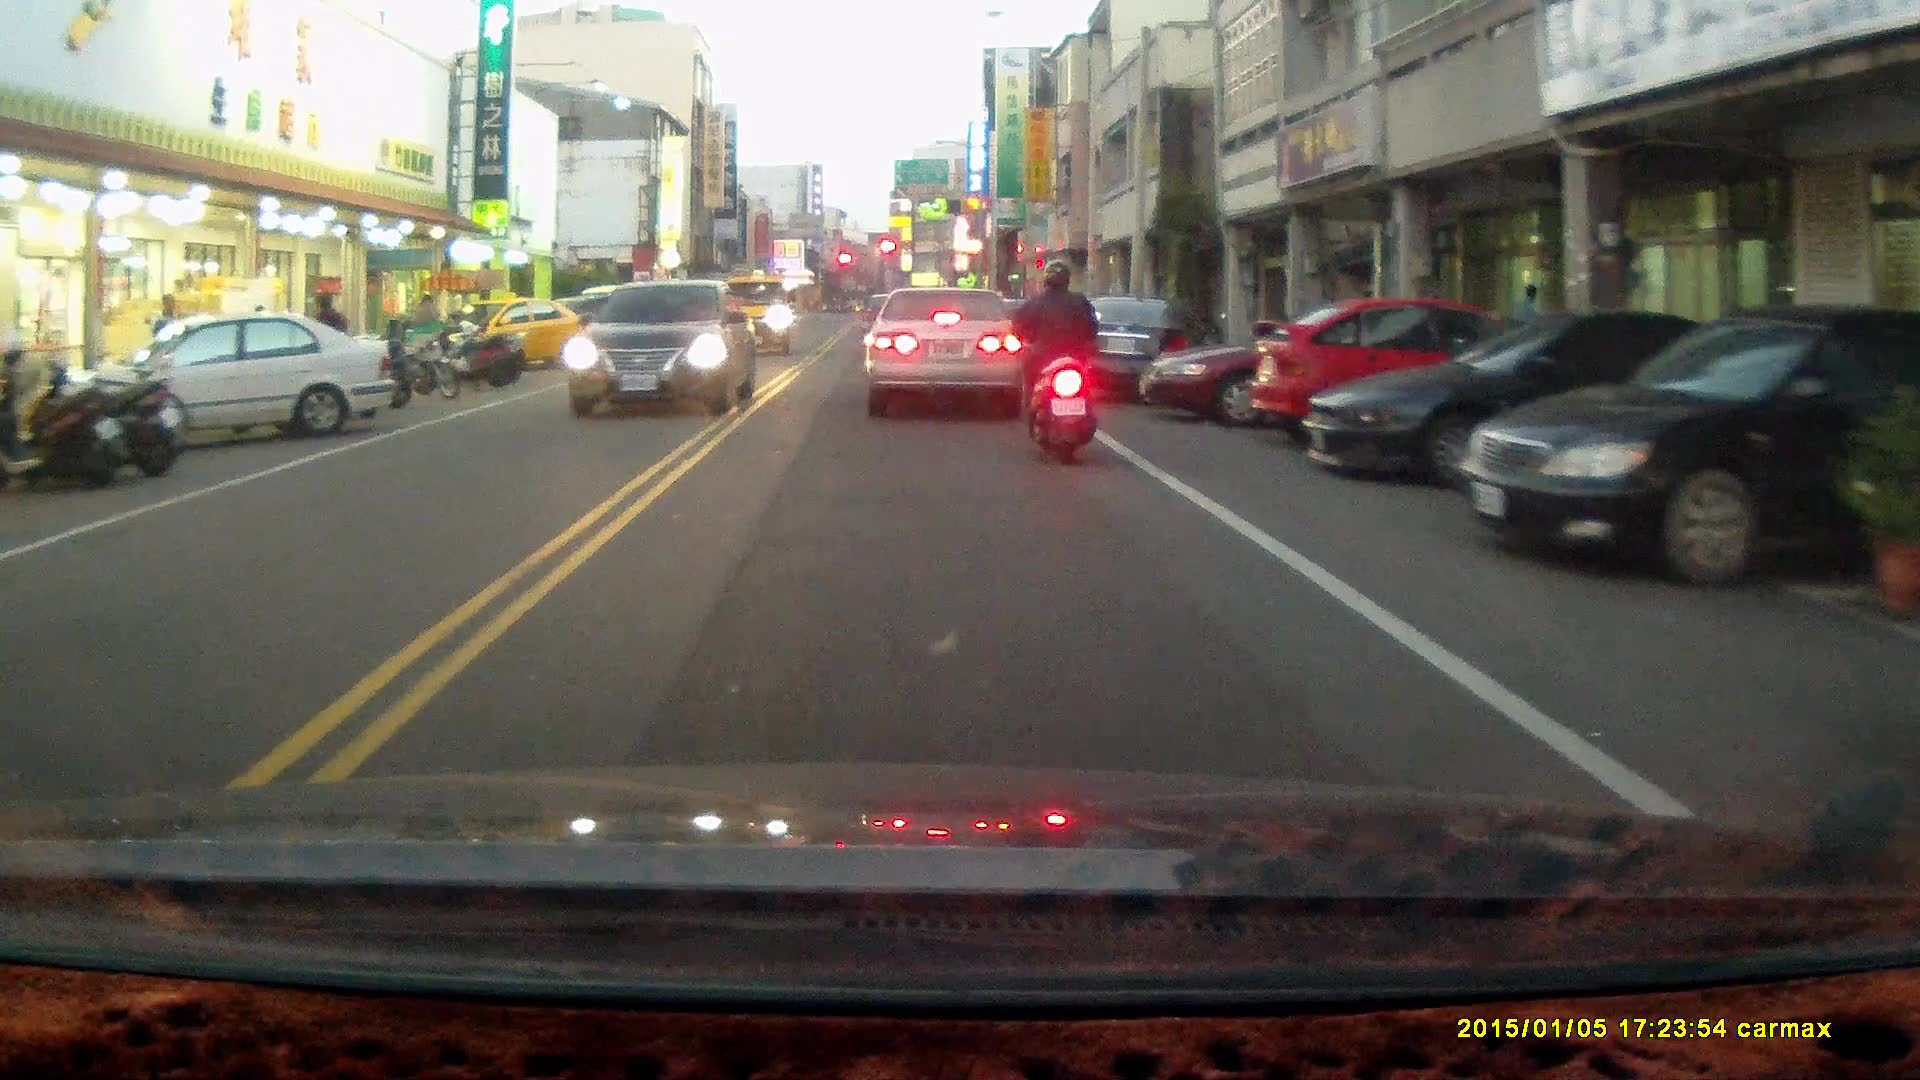pedestrian: (309, 290, 345, 388), (150, 291, 182, 365)
rider: (1007, 258, 1106, 469)
vehicle: (1457, 302, 1914, 593), (1310, 311, 1740, 496), (1243, 294, 1557, 447), (70, 313, 392, 456), (1137, 306, 1485, 435), (566, 275, 754, 418), (865, 284, 1033, 419), (1058, 295, 1197, 408), (476, 304, 602, 381)
